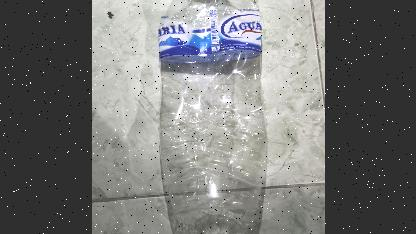Plastic Bottle: (156, 0, 266, 234)
